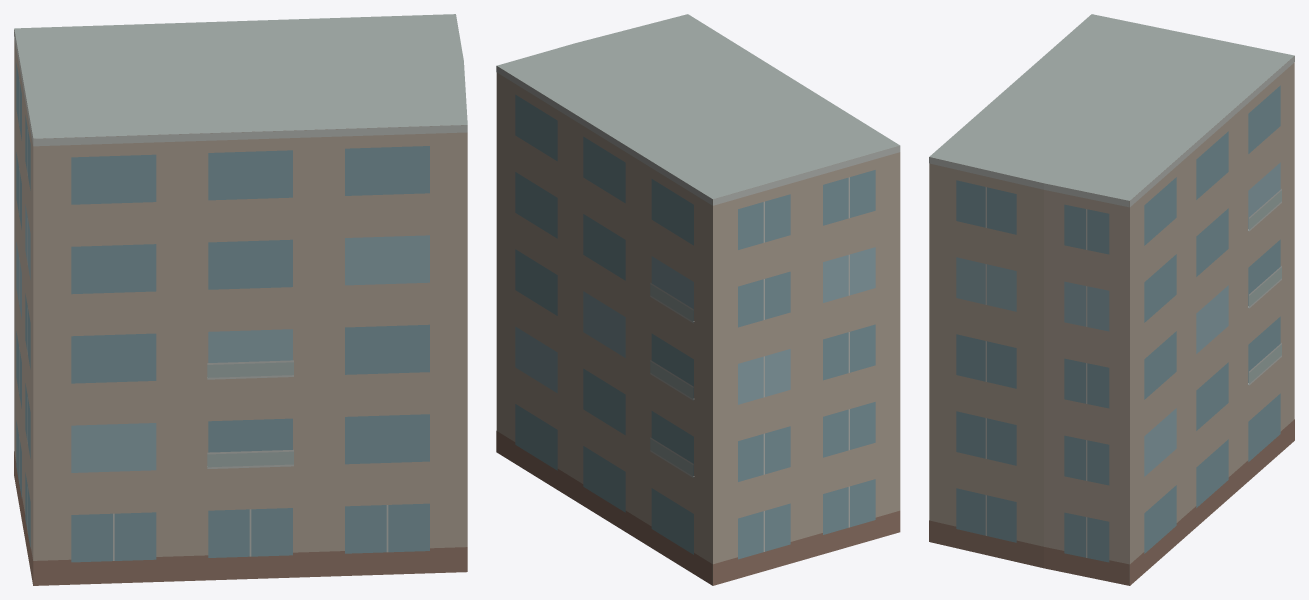
File: survey-upis-32755538.glb
3 renders of one model, left to right at view 1: azimuth 30°, elevation 25°; view 2: azimuth 150°, elevation 25°; view 3: azimuth 270°, elevation 25°, orthographic. The views are drawn at different scales.
Visible parts, largest first — view 1: survey-upis-32755538.tmp; view 2: survey-upis-32755538.tmp; view 3: survey-upis-32755538.tmp.
Boxes of the visible parts, x1=… form: survey-upis-32755538.tmp: x1=14, y1=14, x2=467, y2=585; survey-upis-32755538.tmp: x1=496, y1=14, x2=900, y2=585; survey-upis-32755538.tmp: x1=929, y1=14, x2=1294, y2=585.
Size of the model in its own units: 15 by 14.4 by 12.41.
